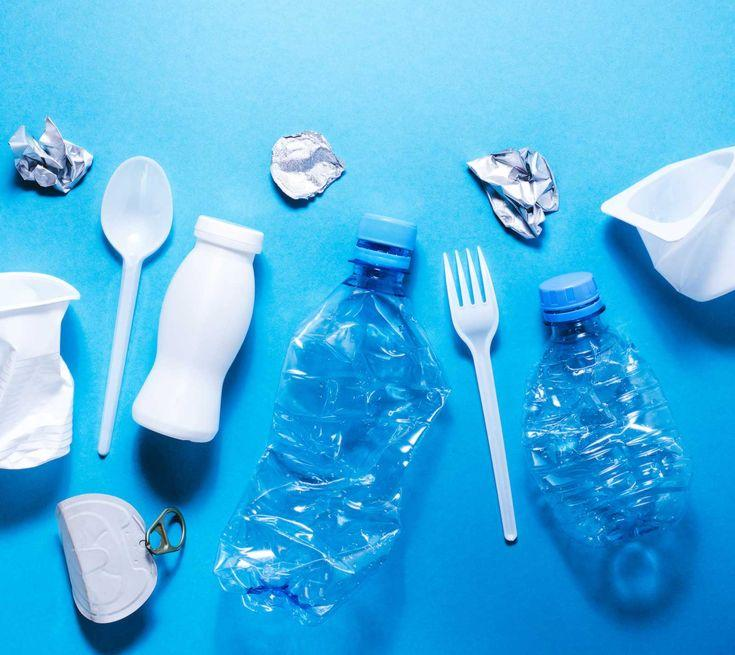HDPE: (352, 210, 420, 272), (537, 270, 606, 324)
PETE: (209, 265, 455, 634), (520, 317, 688, 552)
PP: (126, 213, 267, 446), (440, 242, 521, 548), (596, 142, 735, 301), (0, 271, 83, 473), (126, 445, 127, 446)
PS: (95, 152, 180, 485)
